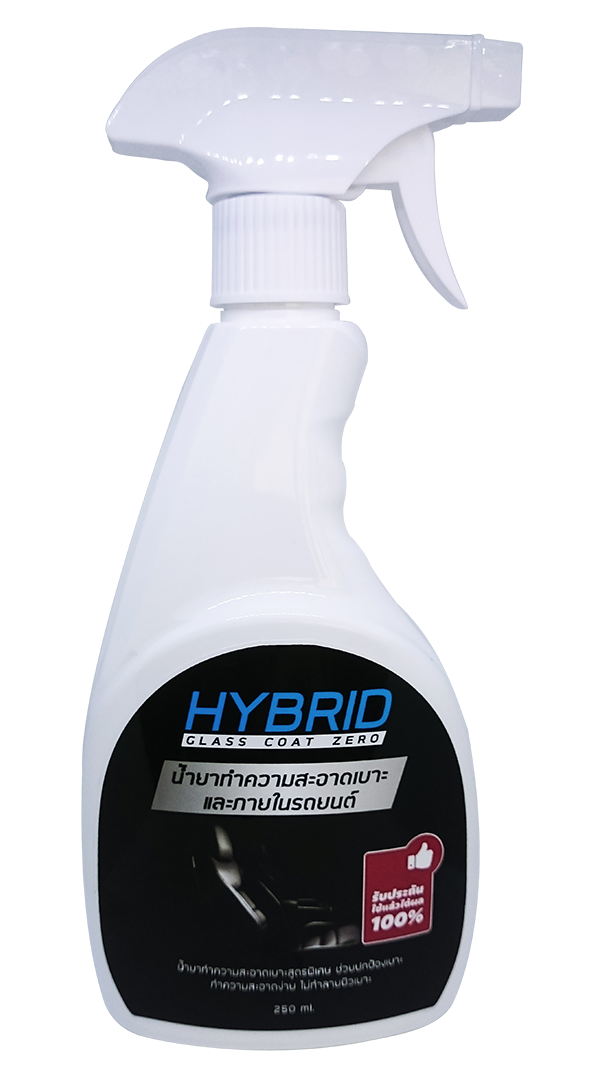Cleaning_solution: (68, 23, 530, 1059)
